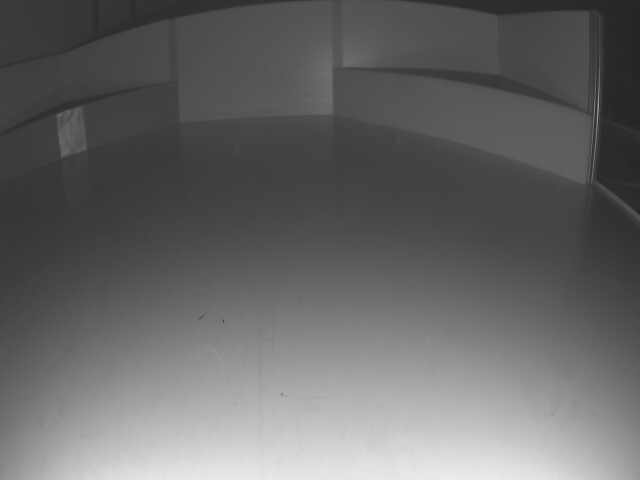Point: (333, 69, 585, 185), (0, 84, 177, 187)
